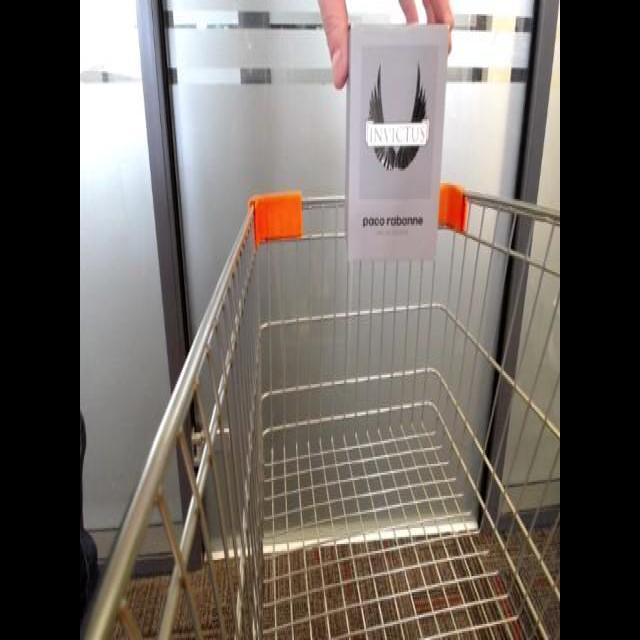Paco Rabanne: (342, 17, 453, 273)
